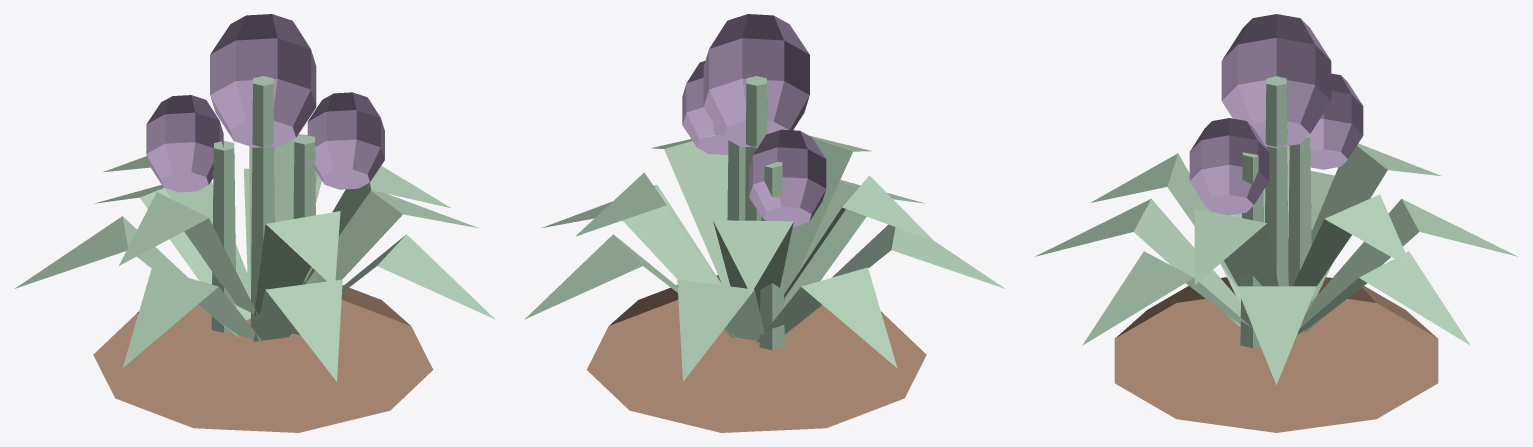
File: flora_33_cynara_scolymus_cay_atiso_da_lat_thai_phien_cluster.glb
The picture shows the model from 3 angles, left to right: view 1: azimuth 30°, elevation 25°; view 2: azimuth 150°, elevation 25°; view 3: azimuth 270°, elevation 25°; orthographic projection.
Parts seen in each view (by area): view 1: flora_33_cynara_scolymus_cay_atiso_da_lat_thai_phien_cluster; view 2: flora_33_cynara_scolymus_cay_atiso_da_lat_thai_phien_cluster; view 3: flora_33_cynara_scolymus_cay_atiso_da_lat_thai_phien_cluster.
Part boxes in pixels (<box>): flora_33_cynara_scolymus_cay_atiso_da_lat_thai_phien_cluster: <box>14,14,495,432</box>; flora_33_cynara_scolymus_cay_atiso_da_lat_thai_phien_cluster: <box>524,14,1005,432</box>; flora_33_cynara_scolymus_cay_atiso_da_lat_thai_phien_cluster: <box>1035,14,1517,432</box>.
Size of the model in its own units: 1.81 by 1.46 by 1.85.
